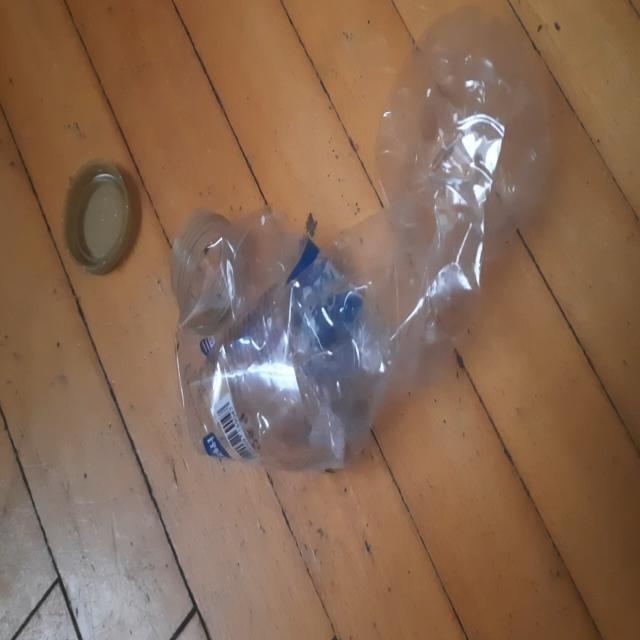Plastic: (173, 4, 549, 472)
